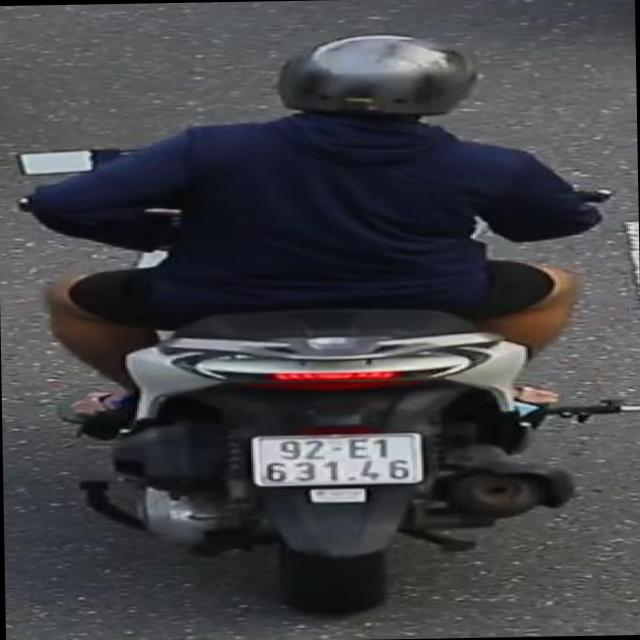LP: (245, 428, 432, 493)
helmet: (269, 27, 483, 131)
